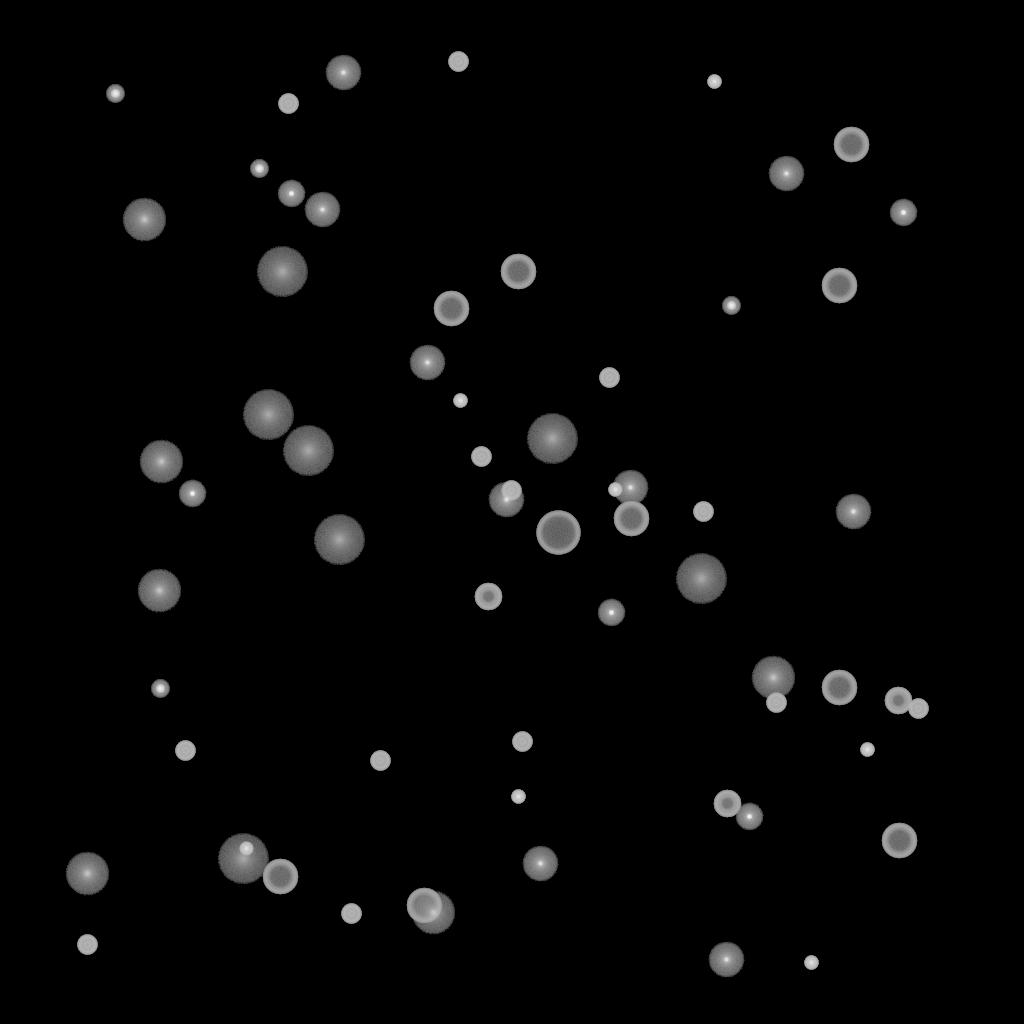depth:-10: (889, 199, 917, 227), (277, 180, 305, 208), (178, 480, 206, 508), (735, 803, 763, 831), (597, 599, 625, 627)
depth:-20: (151, 680, 169, 698), (106, 85, 124, 103), (722, 297, 740, 315), (250, 160, 268, 178)
depth:-30: (239, 842, 253, 856), (804, 956, 818, 970), (608, 483, 622, 497), (453, 394, 467, 408), (860, 743, 874, 757), (511, 790, 525, 804), (707, 75, 721, 89)
depth:-40: (693, 502, 713, 522), (278, 94, 298, 114), (370, 751, 390, 771), (501, 481, 521, 501), (908, 699, 928, 719), (175, 741, 195, 761), (77, 935, 97, 955), (341, 904, 361, 924), (471, 447, 491, 467), (599, 368, 619, 388), (766, 693, 786, 713), (448, 52, 468, 72), (512, 732, 532, 752)
depth:-50: (713, 790, 741, 818), (884, 687, 912, 715), (474, 583, 502, 611)
depth:-60: (821, 268, 857, 304), (433, 291, 469, 327), (613, 501, 649, 537), (821, 670, 857, 706), (406, 888, 442, 924), (833, 127, 869, 163), (881, 823, 917, 859), (500, 254, 536, 290), (262, 859, 298, 895)
depth:-70: (536, 511, 580, 555)
depth:0: (835, 494, 871, 530), (325, 55, 361, 91), (612, 470, 648, 506), (768, 156, 804, 192), (304, 192, 340, 228), (708, 942, 744, 978), (409, 345, 445, 381), (488, 482, 524, 518), (522, 846, 558, 882)
depth:10: (139, 440, 183, 484), (122, 198, 166, 242), (137, 569, 181, 613), (65, 852, 109, 896), (411, 891, 455, 935), (751, 656, 795, 700)
depth:20: (217, 834, 269, 884), (526, 414, 578, 464), (256, 247, 308, 297), (282, 426, 334, 476), (675, 554, 727, 604), (242, 390, 294, 440), (313, 515, 365, 565)
